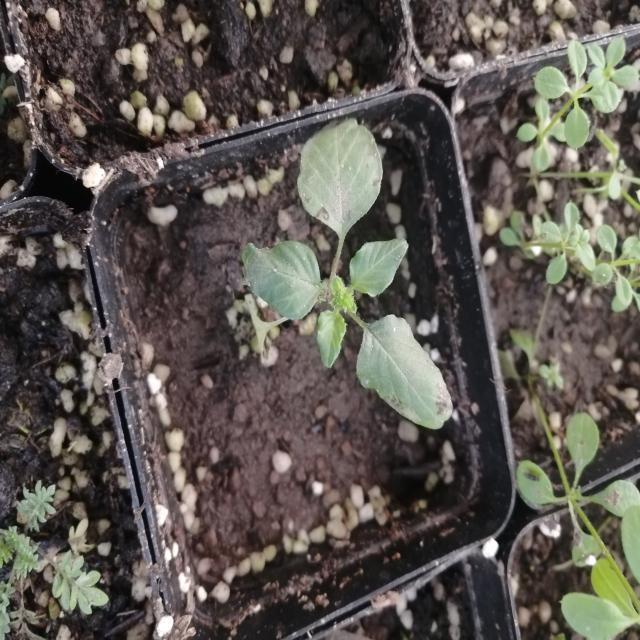pigweed: (260, 134, 451, 425)
